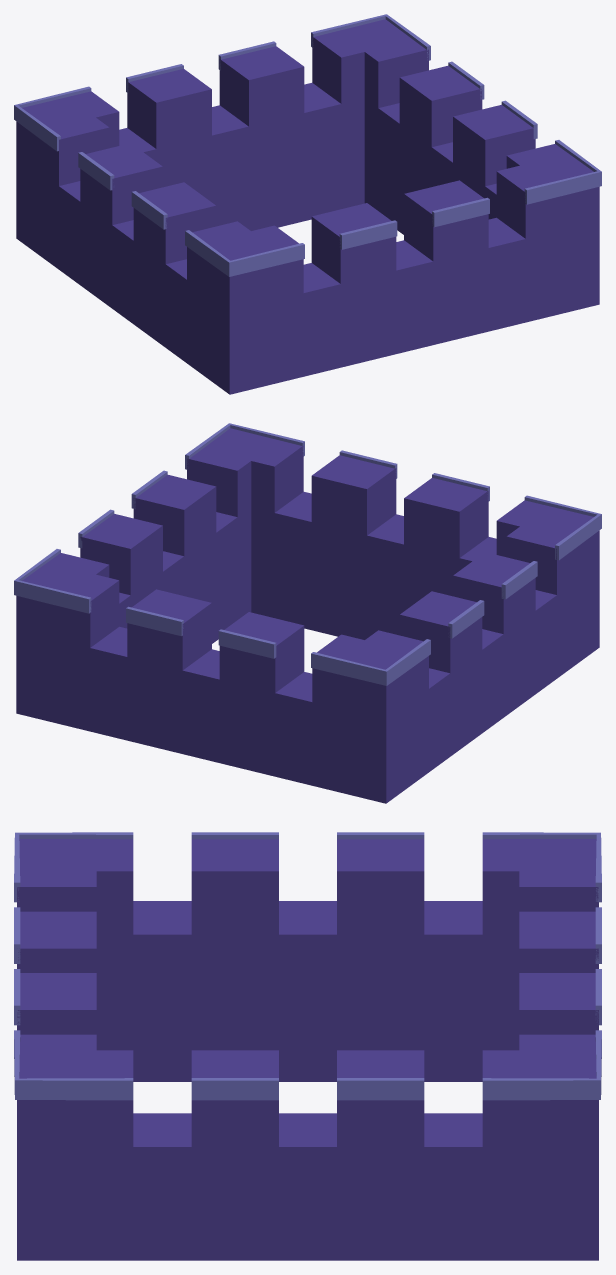
Rendered from WallFloor_016.fbx.
The picture shows the model from 3 angles, top to bottom: view 1: azimuth 30°, elevation 25°; view 2: azimuth 150°, elevation 25°; view 3: azimuth 270°, elevation 25°; orthographic projection. The views are drawn at different scales.
Visible parts, largest first — view 1: WallFloor.016; view 2: WallFloor.016; view 3: WallFloor.016.
Boxes of the visible parts, <box> form: WallFloor.016: <box>14,14,601,394</box>; WallFloor.016: <box>14,423,601,803</box>; WallFloor.016: <box>14,832,601,1260</box>.
Bounding box in the file's own units: 202 × 202 × 81.48.
